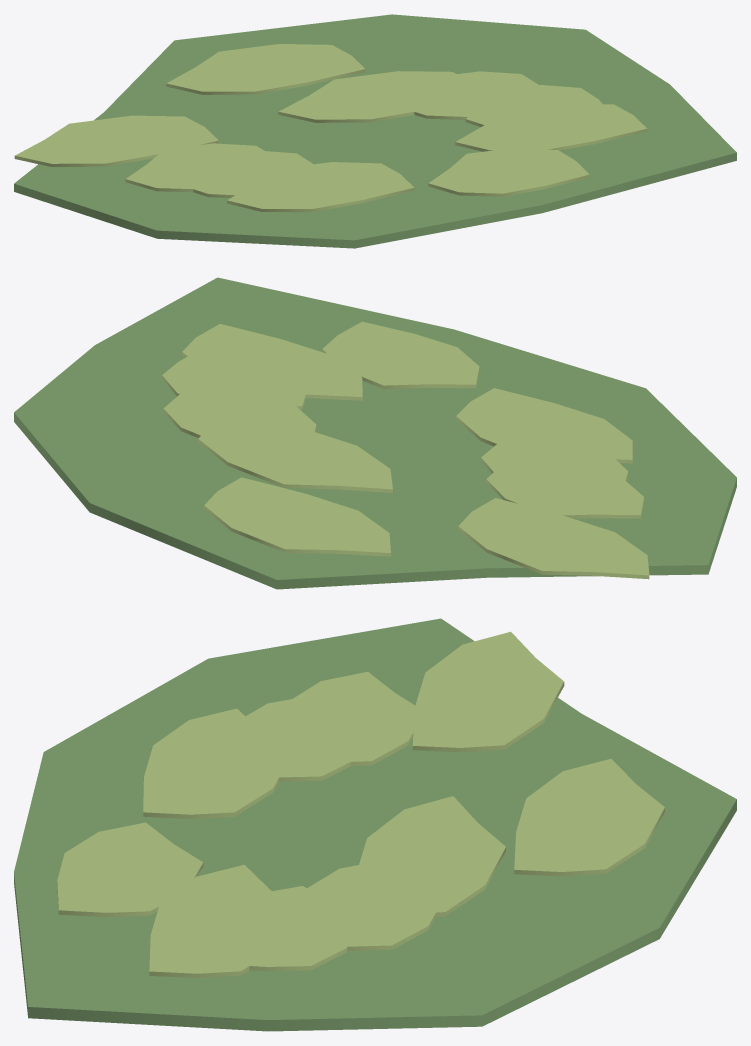
The model's file is patch-moss-mossy.glb.
The picture shows the model from 3 angles, top to bottom: view 1: azimuth 30°, elevation 25°; view 2: azimuth 150°, elevation 25°; view 3: azimuth 270°, elevation 25°; orthographic projection. The views are drawn at different scales.
Parts seen in each view (by area): view 1: patch-moss-kit-mossy-green, patch-moss-kit-mossy-leaf; view 2: patch-moss-kit-mossy-green, patch-moss-kit-mossy-leaf; view 3: patch-moss-kit-mossy-green, patch-moss-kit-mossy-leaf.
Part boxes in pixels (<box>): patch-moss-kit-mossy-green: <box>14,14,736,248</box>; patch-moss-kit-mossy-leaf: <box>14,44,647,212</box>; patch-moss-kit-mossy-green: <box>14,277,736,589</box>; patch-moss-kit-mossy-leaf: <box>162,321,649,579</box>; patch-moss-kit-mossy-green: <box>14,618,736,1031</box>; patch-moss-kit-mossy-leaf: <box>57,631,664,977</box>.
Bounding box in the file's own units: 2.66 × 0.0485 × 2.02.
